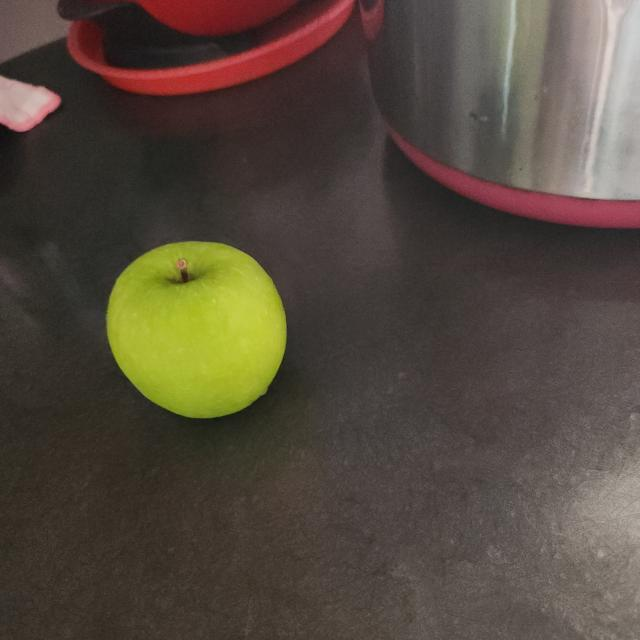apple: (98, 231, 296, 421)
